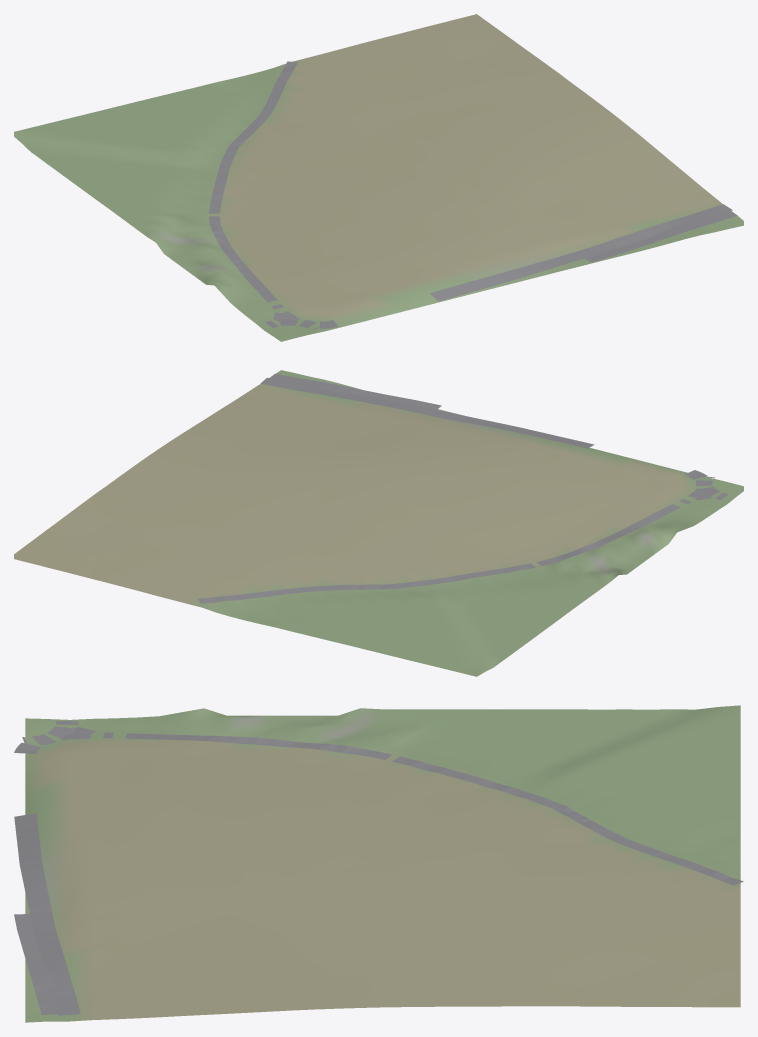
3 renders of one model, top to bottom at view 1: azimuth 30°, elevation 25°; view 2: azimuth 150°, elevation 25°; view 3: azimuth 270°, elevation 25°, orthographic. The views are drawn at different scales.
Parts seen in each view (by area): view 1: prim0, prim1; view 2: prim0, prim1; view 3: prim0, prim1.
Boxes of the visible parts, <box> form: prim0: <box>14,14,743,341</box>; prim1: <box>209,61,737,329</box>; prim0: <box>14,370,743,676</box>; prim1: <box>198,373,728,603</box>; prim0: <box>25,705,740,1022</box>; prim1: <box>14,721,743,1015</box>.
Bounding box in the file's own units: 514 × 22.67 × 523.
